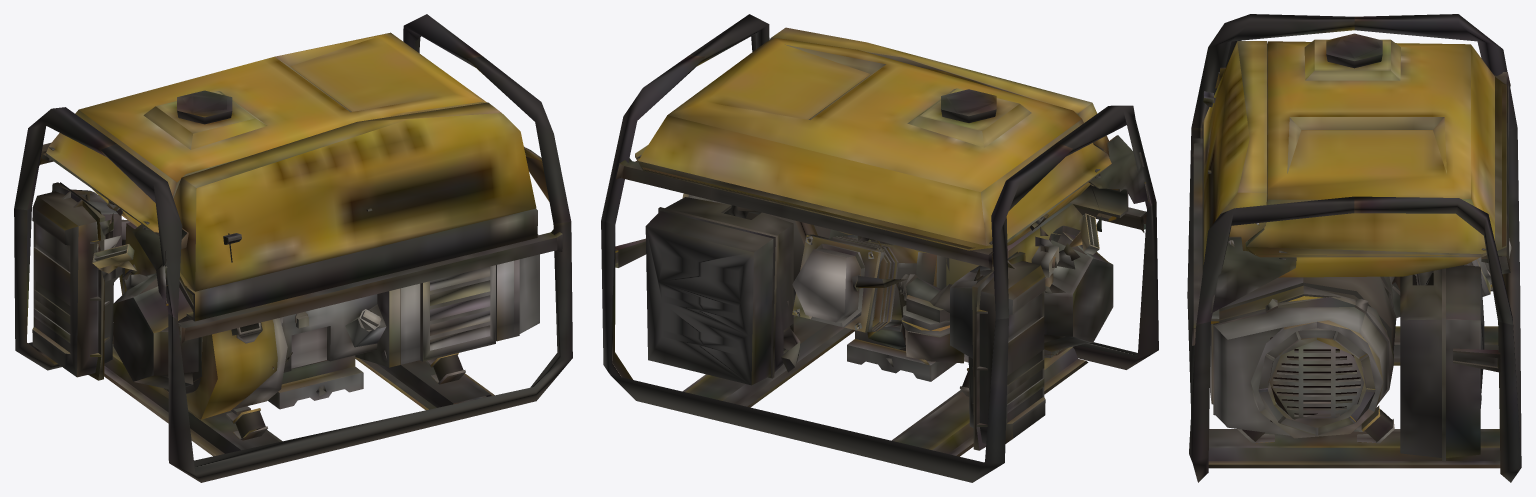
Rendered from portable_generator_lod2.glb.
The picture shows the model from 3 angles, left to right: view 1: azimuth 30°, elevation 25°; view 2: azimuth 150°, elevation 25°; view 3: azimuth 270°, elevation 25°; orthographic projection.
Visible parts, largest first — view 1: portable_generator; view 2: portable_generator; view 3: portable_generator.
Part boxes in pixels (x1,y1,x2,y2): portable_generator: (14, 14, 572, 482); portable_generator: (601, 14, 1158, 482); portable_generator: (1187, 14, 1521, 482).
Size of the model in its own units: 0.8146 by 0.5752 by 0.564.
2 materials, 2 textured.
